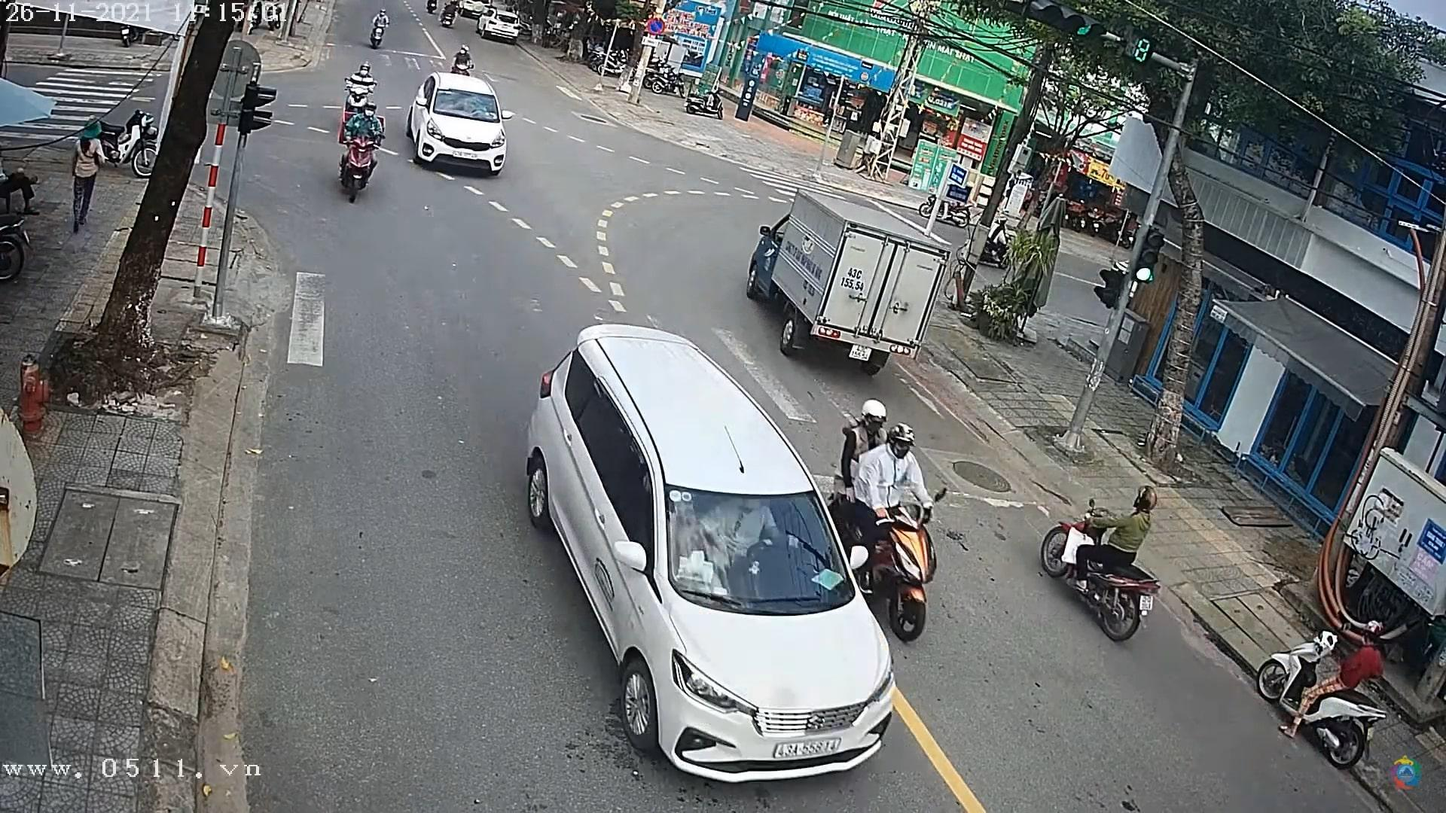car: (517, 300, 912, 797), (404, 72, 509, 177)
motorbike: (812, 394, 960, 630), (334, 99, 385, 204)
